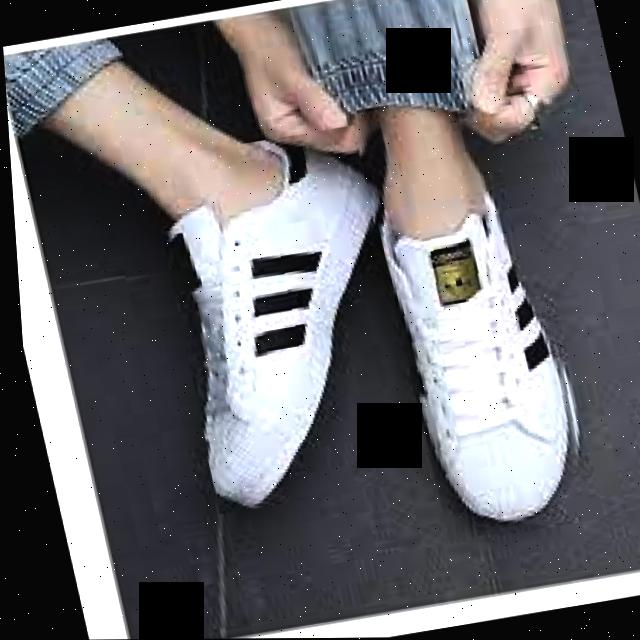shoe: (137, 125, 428, 515), (368, 172, 598, 543)
